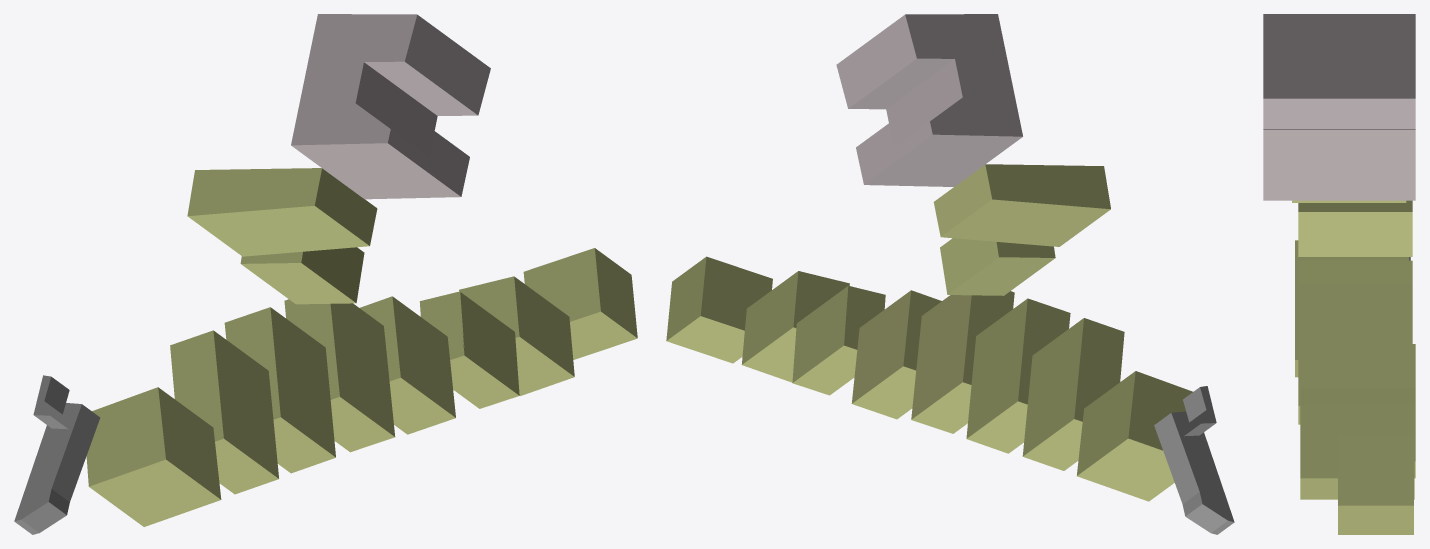
3 views of the same model, side by side, from view 1: azimuth 30°, elevation 25°; view 2: azimuth 150°, elevation 25°; view 3: azimuth 270°, elevation 25° (orthographic). The views are drawn at different scales.
Visible parts, largest first — view 1: 0_1_1_3_3_1_1_3_3; view 2: 0_1_1_3_3_1_1_3_3; view 3: 0_1_1_3_3_1_1_3_3.
Boxes of the visible parts, left/top/right/bottom form: 0_1_1_3_3_1_1_3_3: left=14, top=14, right=637, bottom=534; 0_1_1_3_3_1_1_3_3: left=666, top=14, right=1234, bottom=534; 0_1_1_3_3_1_1_3_3: left=1263, top=14, right=1415, bottom=534.
Bounding box in the file's own units: 55.33 × 38.73 × 12.
